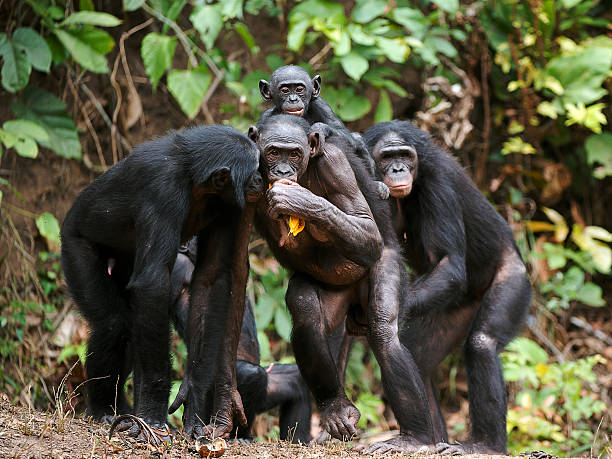chimpanzee: (362, 117, 430, 214), (258, 58, 332, 135)
